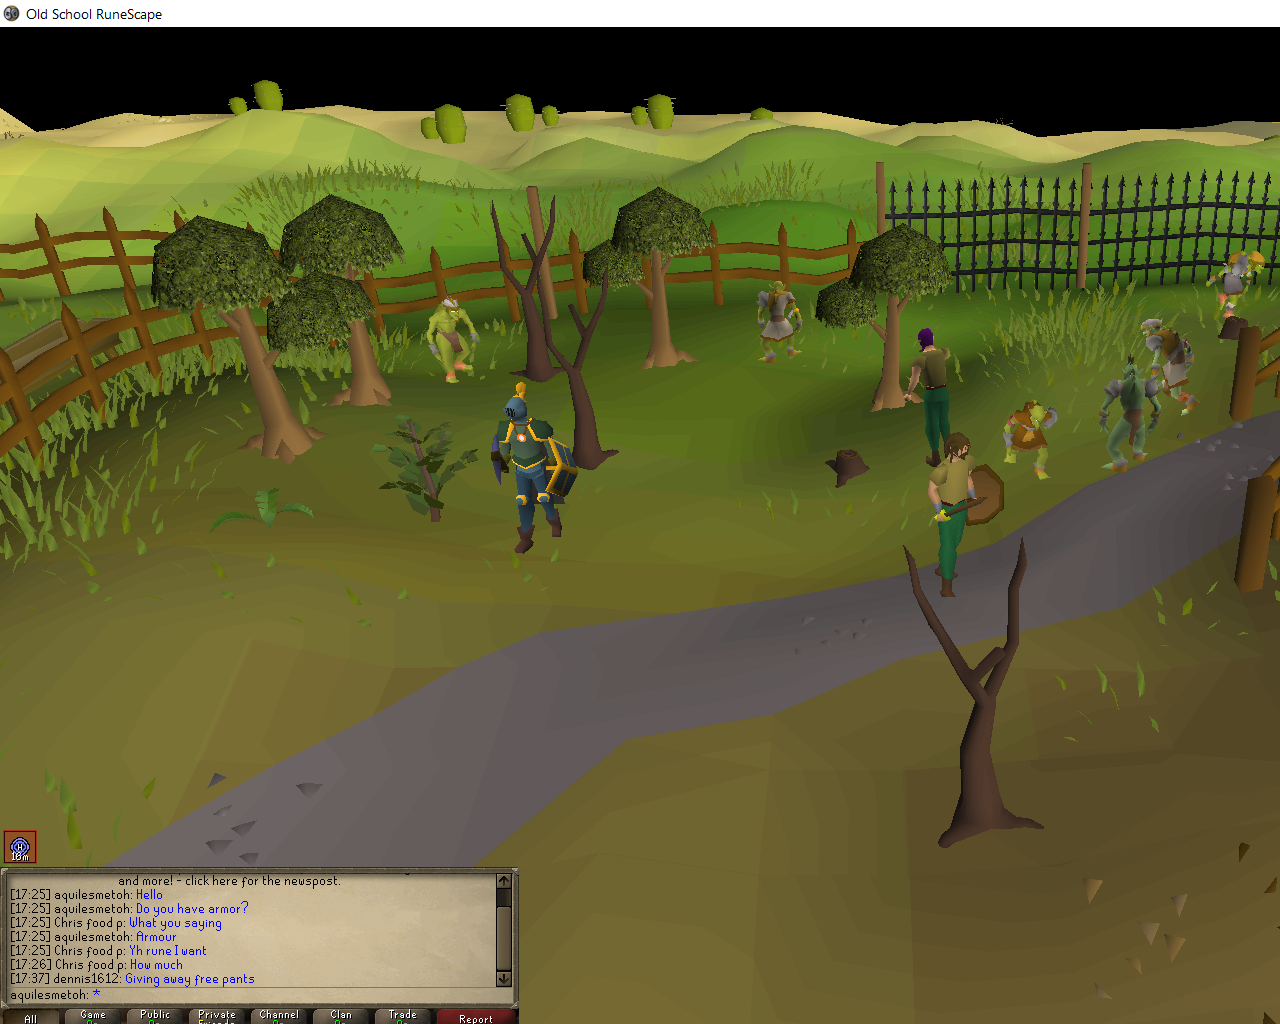Goblin: (1098, 358, 1163, 478), (1138, 316, 1207, 426), (419, 289, 483, 387), (996, 397, 1063, 485), (1201, 245, 1266, 321), (752, 281, 804, 362)
